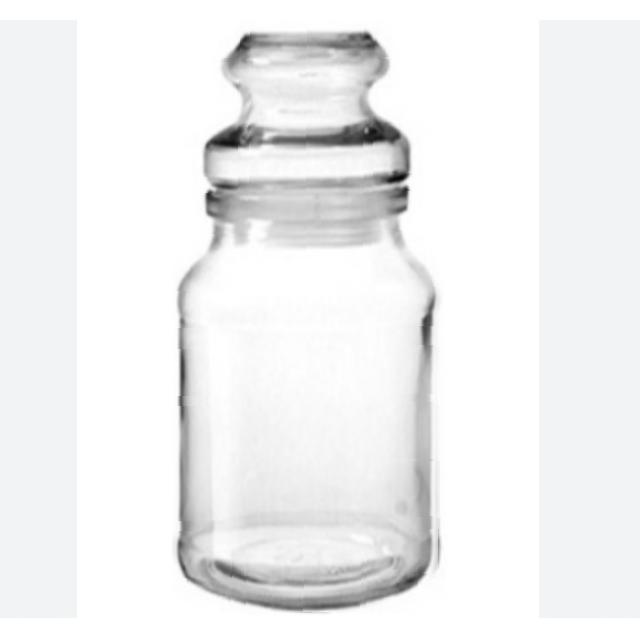recyclable: (172, 24, 446, 613)
